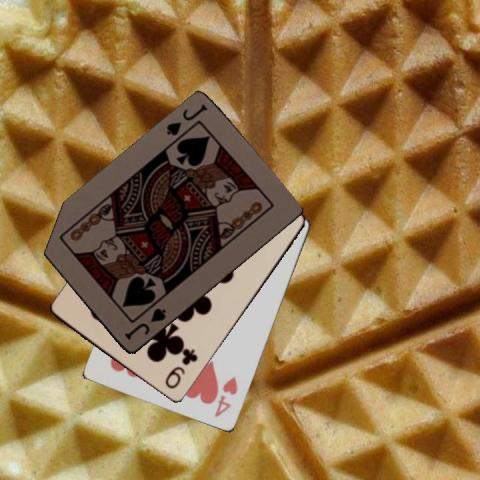4h: (212, 374, 240, 419)
9c: (162, 346, 199, 391)
Js: (121, 304, 168, 342), (163, 101, 209, 138)
